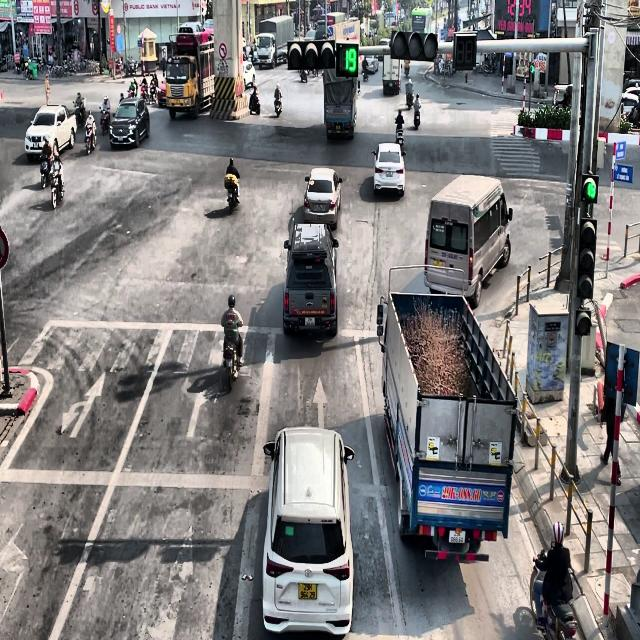lisence_plate: (417, 480, 506, 506), (298, 581, 318, 600), (448, 528, 466, 545), (441, 252, 459, 260), (304, 317, 315, 327), (433, 257, 442, 269), (316, 203, 324, 213), (386, 171, 394, 180), (336, 124, 342, 130), (389, 82, 393, 87)
